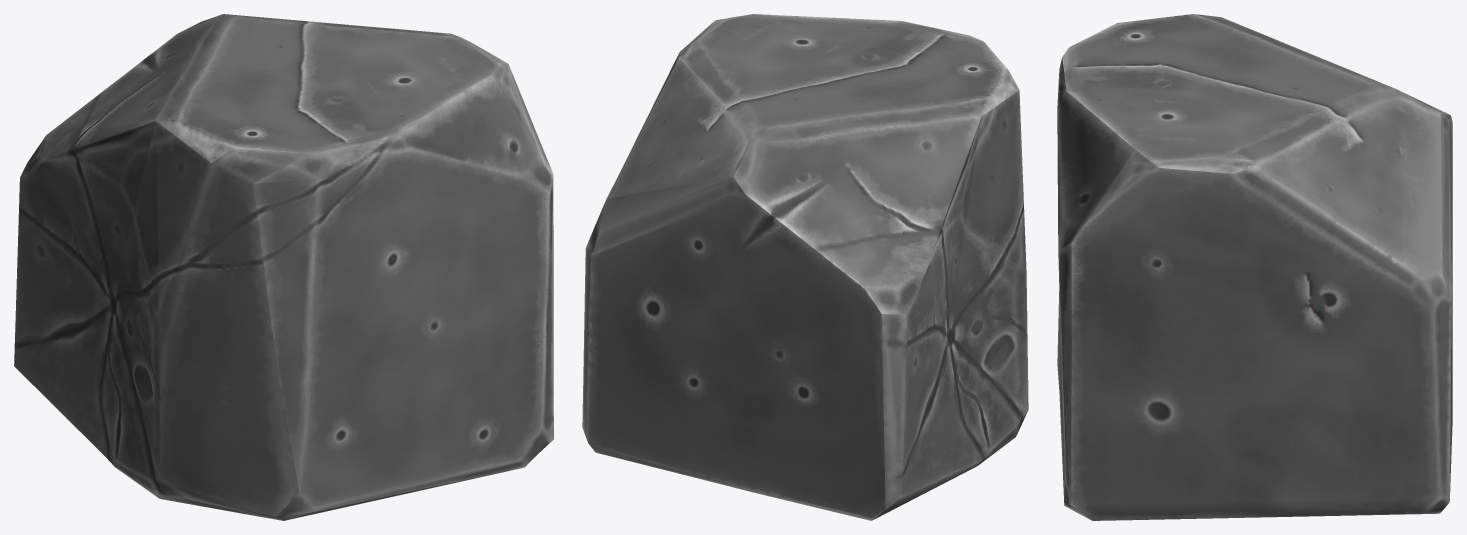
The model's file is rock_01.dae.
The picture shows the model from 3 angles, left to right: view 1: azimuth 30°, elevation 25°; view 2: azimuth 150°, elevation 25°; view 3: azimuth 270°, elevation 25°; orthographic projection. The views are drawn at different scales.
Visible parts, largest first — view 1: stone5; view 2: stone5; view 3: stone5.
Part boxes in pixels (box(x1,y1,x2,y2)): stone5: box(14, 14, 553, 520); stone5: box(582, 14, 1028, 520); stone5: box(1057, 14, 1452, 520).
Size of the model in its own units: 49.56 by 49.69 by 49.66.
1 material, 1 textured.
